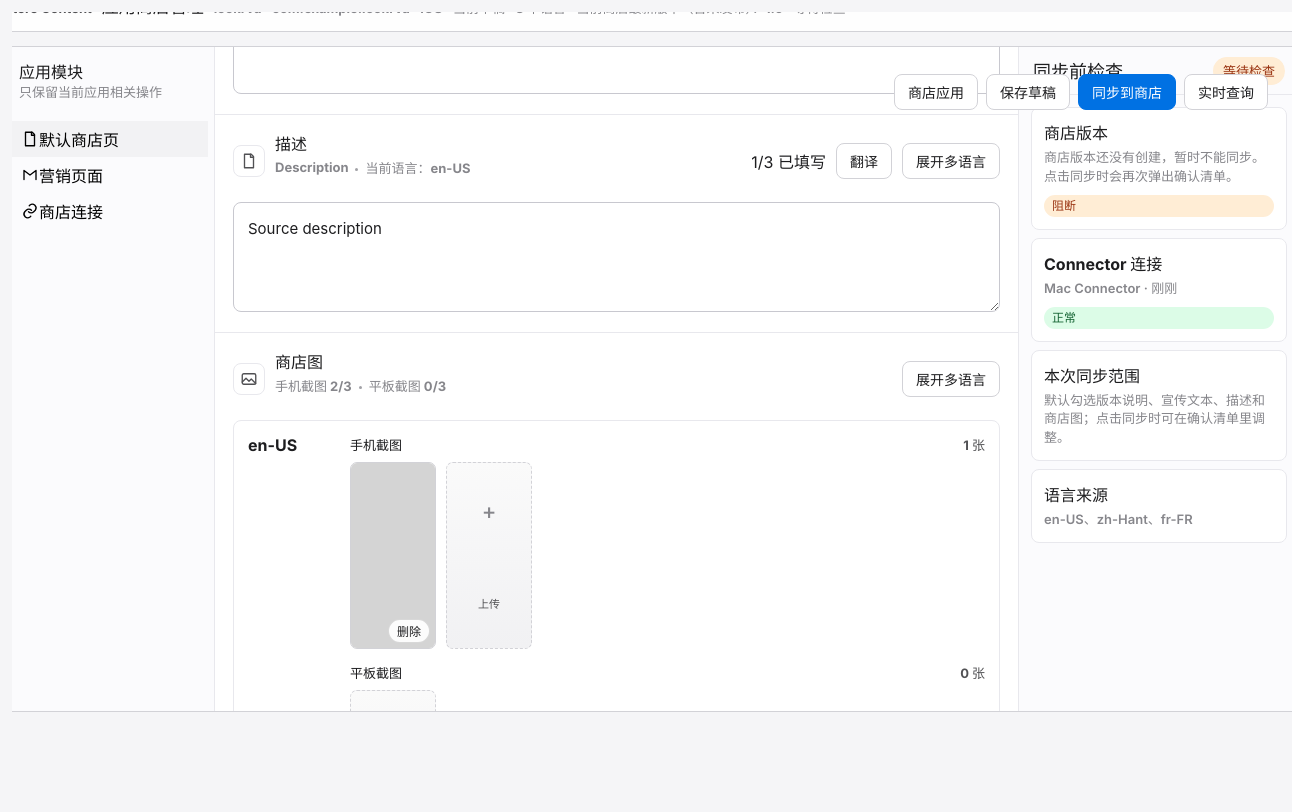
Test case: DeveloperAccountsPage store workspace › does not show delete action for inherited store images
This screenshot has width=1292, height=812.
(page scrolled)
Click the button with aria-label "展开商店图多语言" at (951, 379), box x1=902 y1=361 x2=1000 y2=397
(page scrolled)
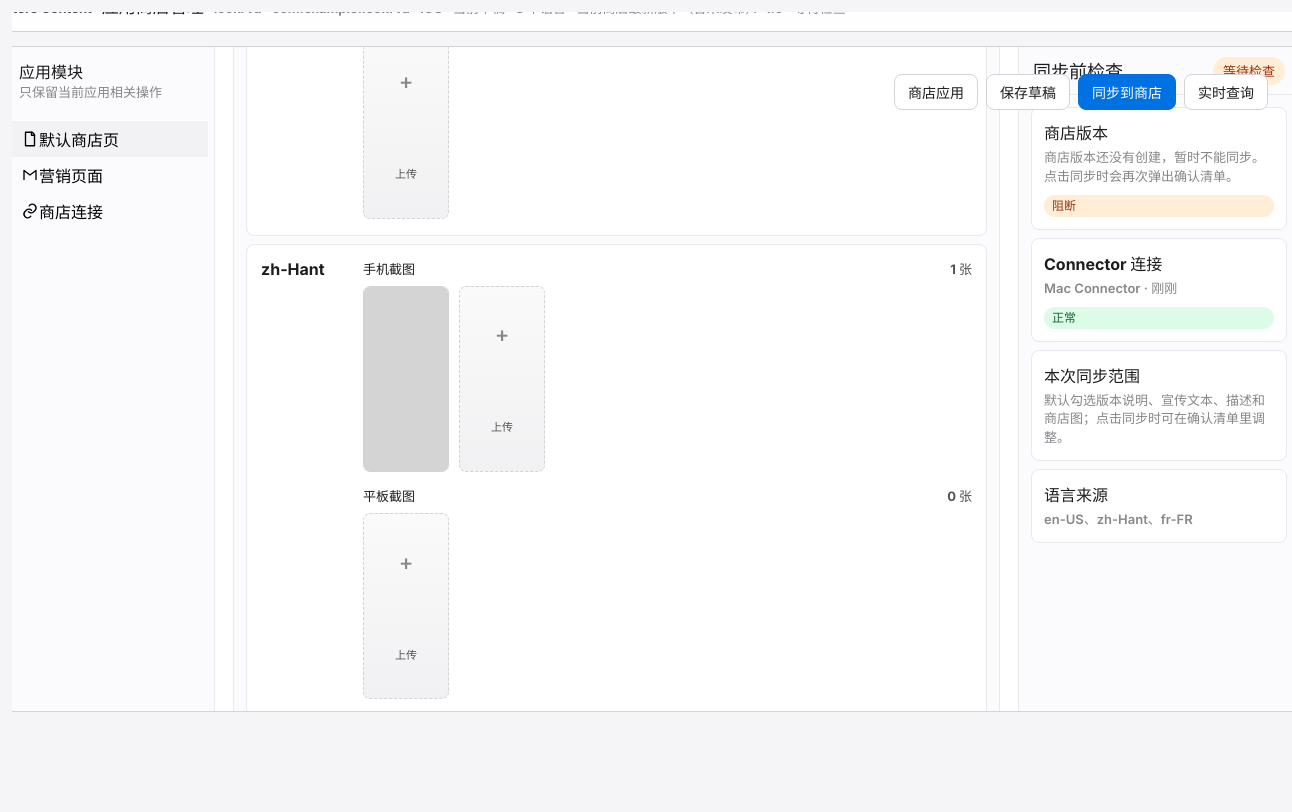
Expected: the button "删除" is gone
